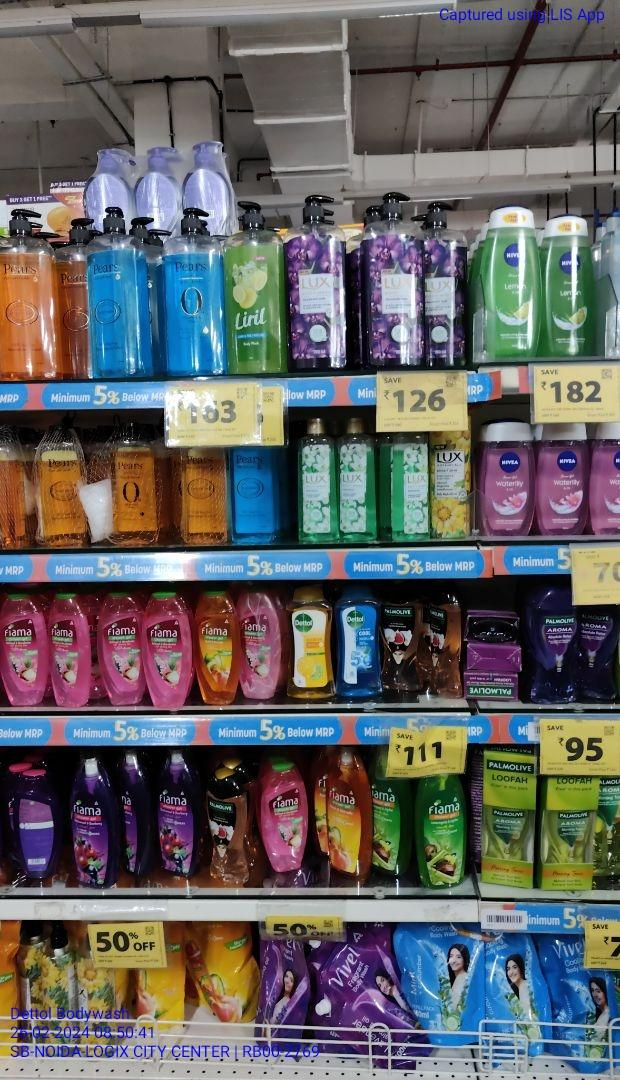Dettol_Bodywash_Cool: (333, 581, 384, 699)
Dettol_Bodywash_Refresh: (286, 585, 337, 699)
Fiama_Shower_Gel_Patchouli_and_Macadamia_250ML: (97, 586, 146, 706), (143, 589, 192, 708), (1, 589, 49, 705), (45, 591, 93, 707)
Fiama_Shower_Gel_Peach_and_Avocado_250ML: (194, 586, 244, 705)
Lux_Body_Wash_Skin_Detox_Freesia_Scent_and_Alove_Vera_245ML: (295, 416, 341, 547), (337, 415, 380, 543), (386, 429, 433, 541)
Nivea_Shower_Gel_Lemon_and_Oil_250ML: (481, 199, 543, 357), (541, 208, 597, 357)
Nivea_Shower_Gel_Waterlily_and_Oil_250ML: (477, 419, 533, 538), (536, 419, 588, 533)
Palmolive_Luminous_Oils_With_White_Orchid_Shower_Gel_250ML: (203, 766, 255, 884), (378, 586, 427, 700)
